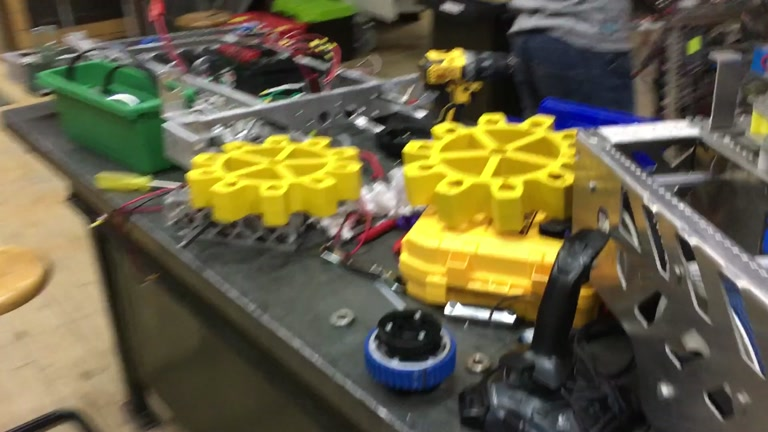gear: (401, 110, 601, 234), (183, 132, 364, 227)
